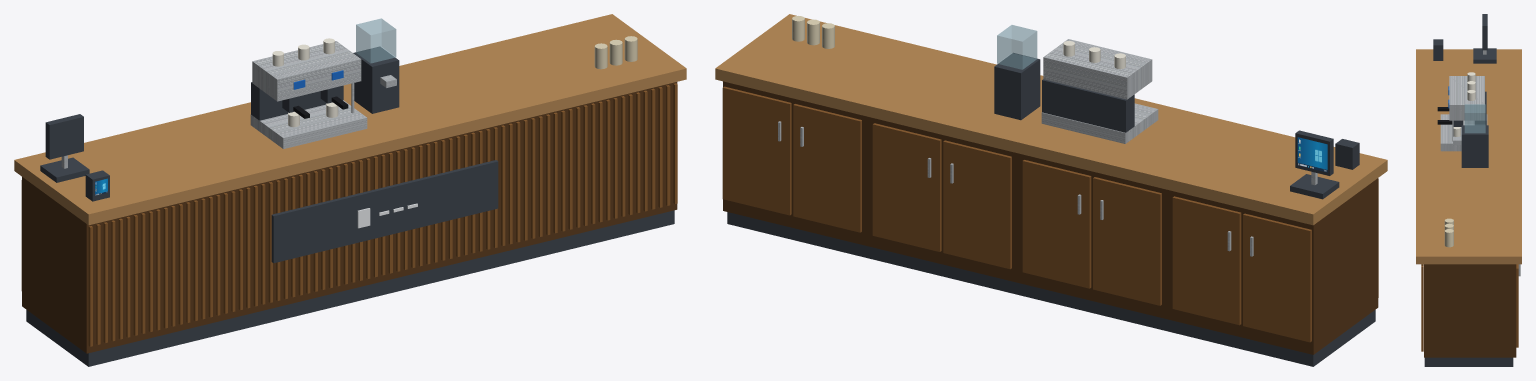
The model's file is checkout-cafe-4m.glb.
3 views of the same model, side by side, from view 1: azimuth 30°, elevation 25°; view 2: azimuth 150°, elevation 25°; view 3: azimuth 270°, elevation 25° (orthographic). The views are drawn at different scales.
Visible parts, largest first — view 1: counter-cabinet, counter-worktop, counter-front-batten (×49), cafe-fascia, counter-plinth, espresso-machine, espresso-drip-tray, coffee-grinder-base, coffee-grinder-hopper, counter-pos-housing, espresso-back, takeaway-cups_e4d9bb (+2 smaller); view 2: counter-rear-door (×8), counter-worktop, counter-cabinet, counter-plinth, espresso-machine, espresso-back, coffee-grinder-base, espresso-drip-tray, coffee-grinder-hopper, takeaway-cups_e4d9bb, counter-pos-screen, counter-pos-foot (+3 smaller); view 3: counter-worktop, counter-cabinet, espresso-machine, coffee-grinder-base, counter-plinth, coffee-grinder-hopper, espresso-drip-tray, counter-pos-foot, counter-cups_f2eee1, takeaway-cups_e4d9bb, counter-front-batten, counter-rear-door (+3 smaller).
Boxes of the visible parts, x1,y1,x2,y2 form: counter-cabinet: (22, 82, 677, 353); counter-worktop: (14, 14, 686, 225); counter-front-batten (×49): (88, 83, 677, 346); cafe-fascia: (271, 160, 498, 263); counter-plinth: (26, 210, 674, 366); espresso-machine: (252, 41, 361, 101); espresso-drip-tray: (250, 100, 367, 148); coffee-grinder-base: (353, 46, 399, 113); coffee-grinder-hopper: (356, 18, 396, 63); counter-pos-housing: (45, 114, 83, 159); espresso-back: (251, 82, 343, 120); takeaway-cups_e4d9bb: (594, 36, 637, 69); counter-rear-door (×8): (722, 86, 1311, 342); counter-worktop: (715, 14, 1387, 225); counter-cabinet: (723, 81, 1378, 354); counter-plinth: (727, 212, 1375, 366); espresso-machine: (1043, 39, 1152, 99); espresso-back: (1042, 79, 1134, 132); coffee-grinder-base: (994, 53, 1040, 120); espresso-drip-tray: (1041, 103, 1158, 143); coffee-grinder-hopper: (997, 25, 1037, 69); takeaway-cups_e4d9bb: (792, 16, 834, 48); counter-pos-screen: (1297, 137, 1327, 172); counter-pos-foot: (1290, 174, 1339, 199); counter-worktop: (1416, 49, 1521, 264); counter-cabinet: (1424, 264, 1516, 357); espresso-machine: (1449, 76, 1484, 120); coffee-grinder-base: (1461, 125, 1488, 167); counter-plinth: (1424, 357, 1513, 366); coffee-grinder-hopper: (1464, 104, 1485, 133); espresso-drip-tray: (1440, 114, 1487, 151); counter-pos-foot: (1473, 48, 1496, 63); counter-cups_f2eee1: (1453, 72, 1475, 136); takeaway-cups_e4d9bb: (1444, 218, 1453, 247); counter-front-batten: (1421, 266, 1423, 351); counter-rear-door: (1516, 264, 1518, 347).
Bounding box in the file's own units: 3.99 × 1.5 × 0.86.
13 materials, 2 textured.
